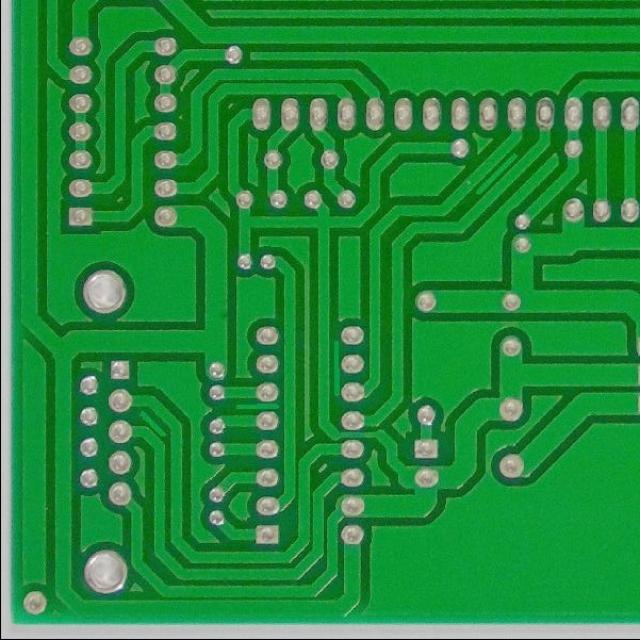Spurious_Cooper: (466, 145, 524, 200), (133, 405, 172, 442), (329, 336, 343, 398), (231, 397, 282, 412)
